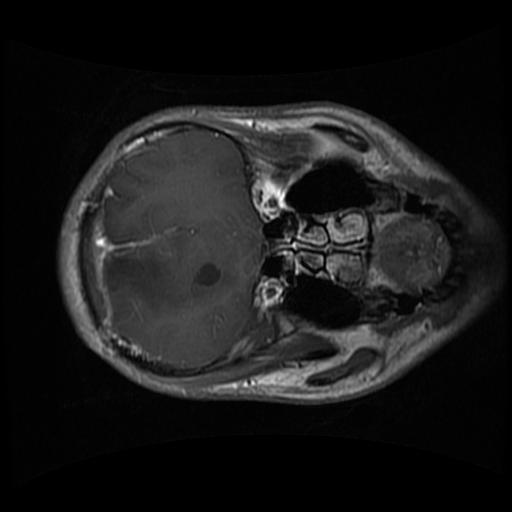glioma: (103, 245, 162, 303)
